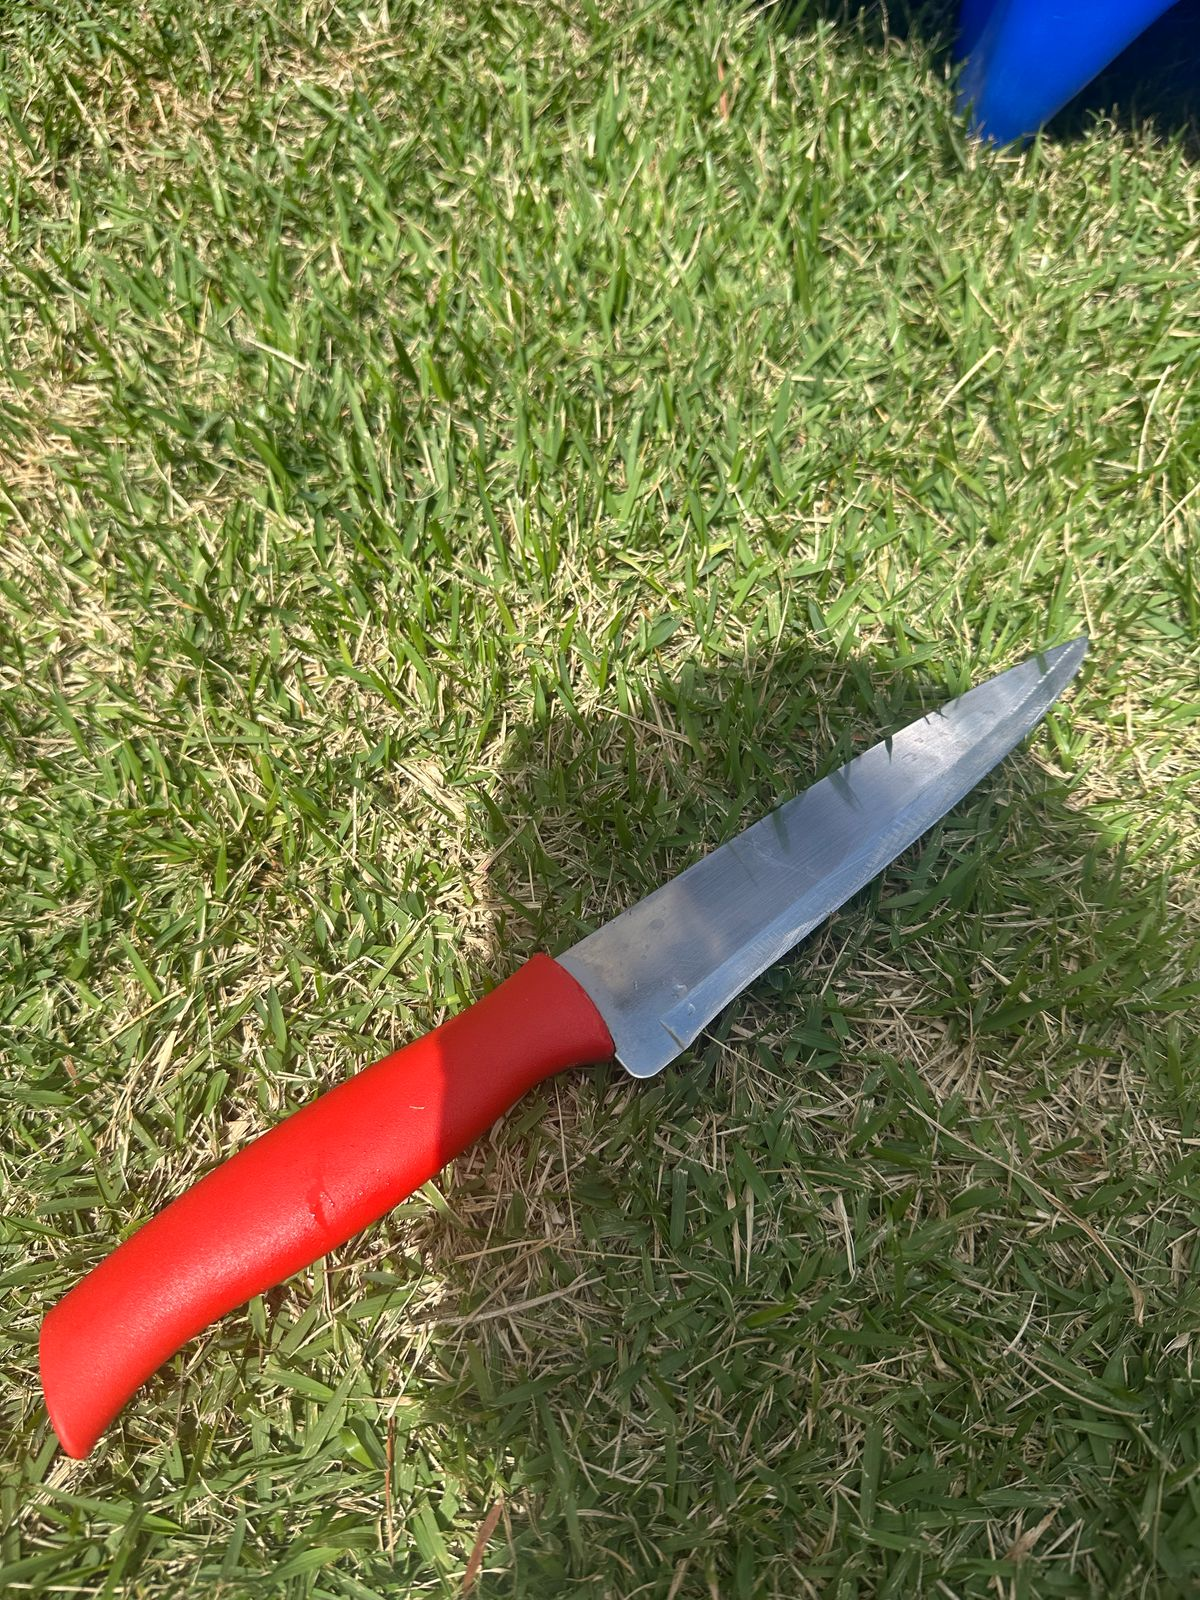faca: (28, 598, 1116, 1470)
